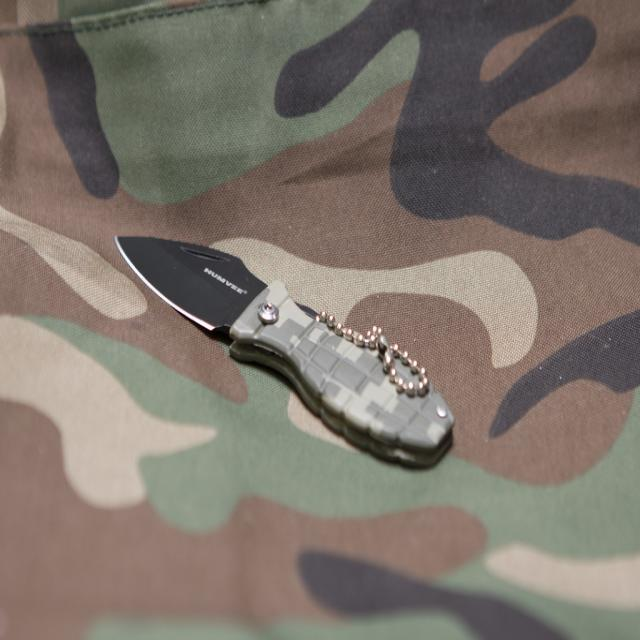Knife: (115, 238, 454, 467)
